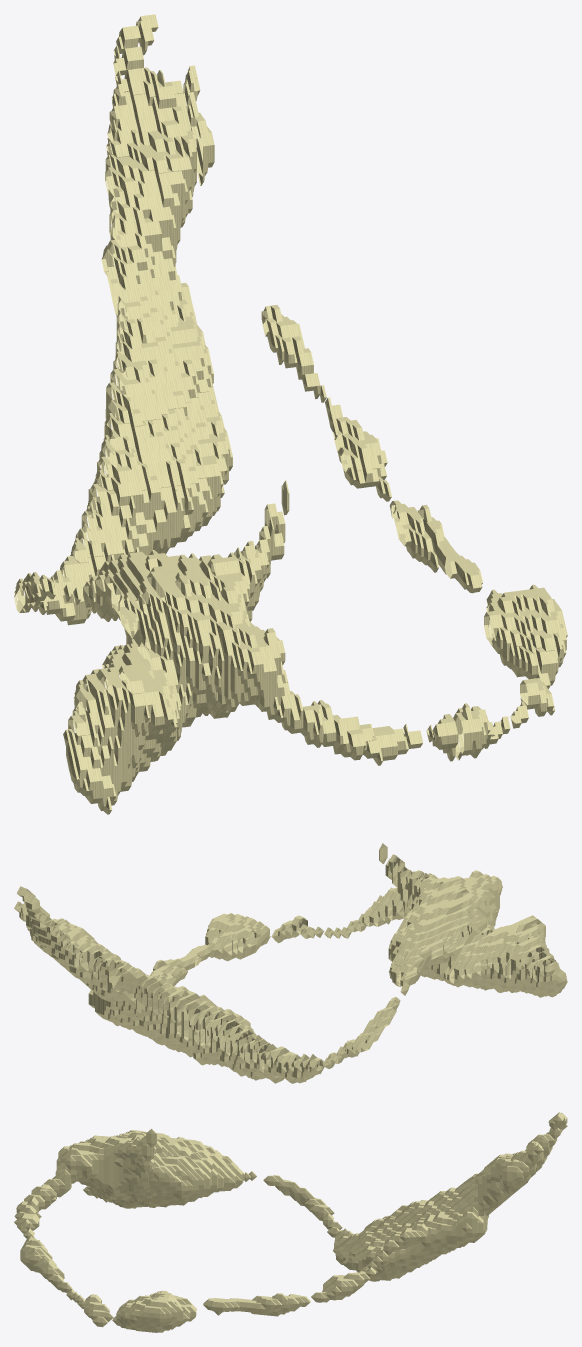
File: SVV_OLQVR.gltf
The picture shows the model from 3 angles, top to bottom: view 1: azimuth 30°, elevation 25°; view 2: azimuth 150°, elevation 25°; view 3: azimuth 270°, elevation 25°; orthographic projection. The views are drawn at different scales.
Parts seen in each view (by area): view 1: OLQVR; view 2: OLQVR; view 3: OLQVR.
Boxes of the visible parts, left/top/right/bottom form: OLQVR: left=14, top=14, right=567, bottom=814; OLQVR: left=14, top=843, right=567, bottom=1083; OLQVR: left=14, top=1112, right=567, bottom=1332.
Bounding box in the file's own units: 42491 × 30346 × 68867.
